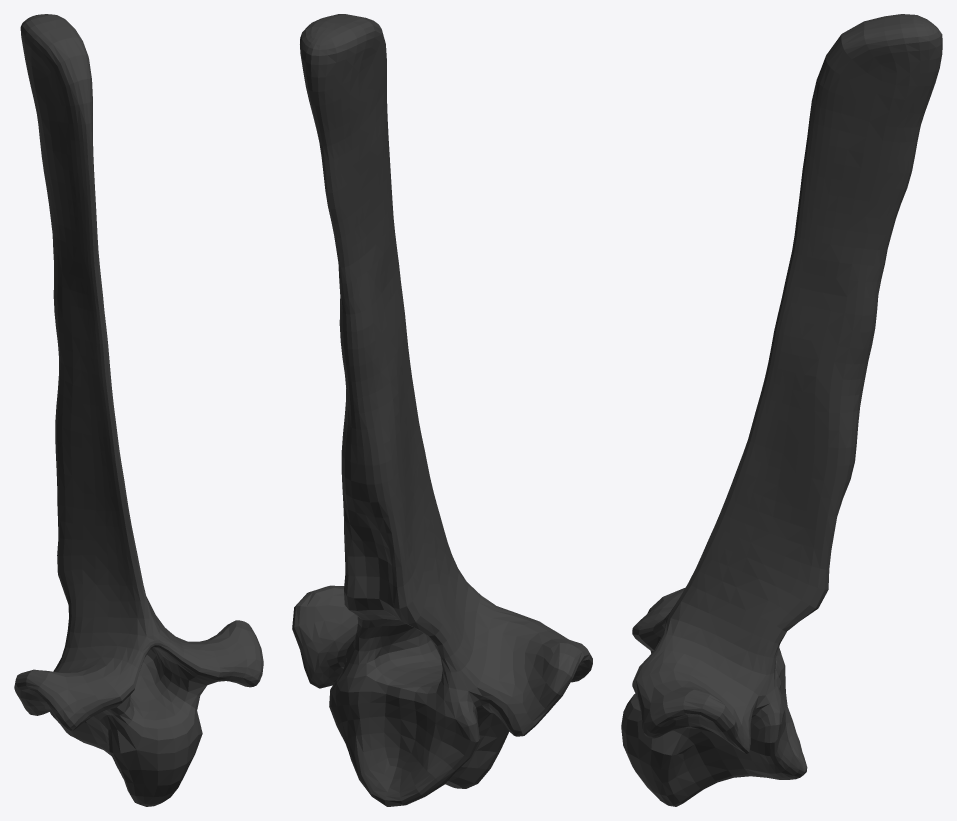
The picture shows the model from 3 angles, left to right: view 1: azimuth 30°, elevation 25°; view 2: azimuth 150°, elevation 25°; view 3: azimuth 270°, elevation 25°; orthographic projection. The views are drawn at different scales.
Parts seen in each view (by area): view 1: b_T1_LO; view 2: b_T1_LO; view 3: b_T1_LO.
Part boxes in pixels (left/top/right/bottom): b_T1_LO: left=14, top=14, right=263, bottom=806; b_T1_LO: left=292, top=14, right=592, bottom=806; b_T1_LO: left=621, top=14, right=942, bottom=806.
Bounding box in the file's own units: 0.00104 × 0.00305 × 0.00113.
1 material, 1 textured.
